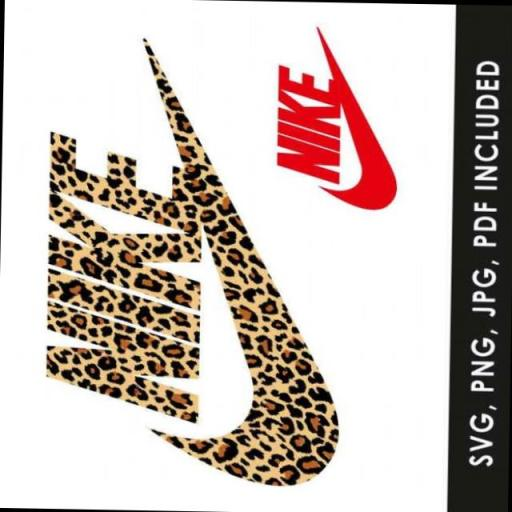Nike: (334, 41, 398, 210), (274, 62, 345, 183)
